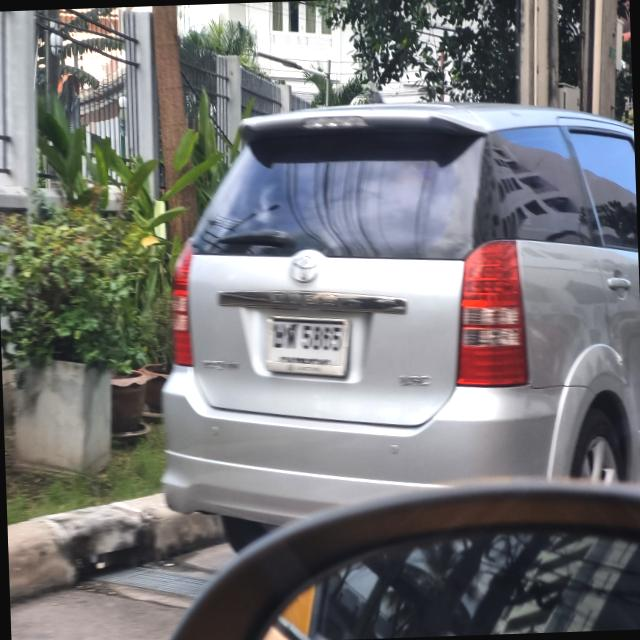license_plate: (263, 302, 354, 388)
